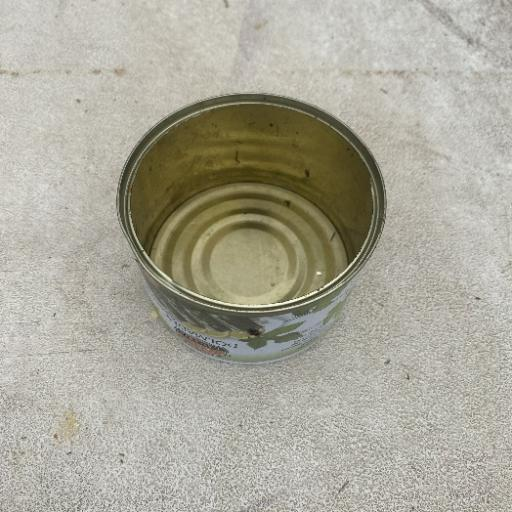Metal: (114, 90, 389, 366)
